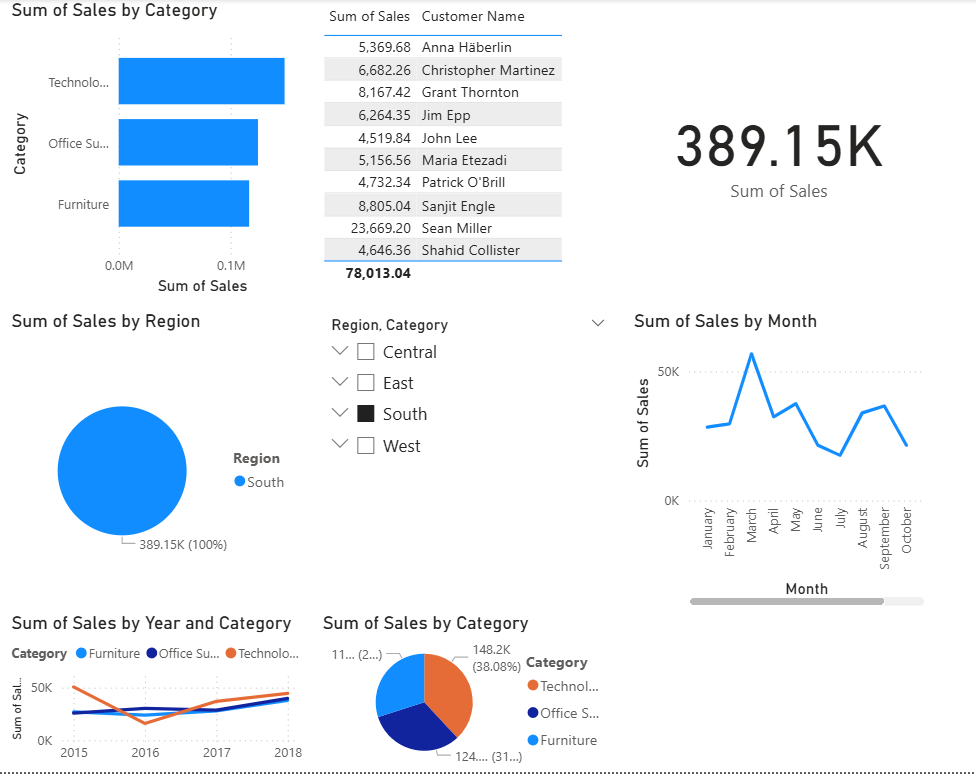

The page's visual inventory and layout, read from the dashboard file:
{"tool":"powerbi","page":{"name":"Page 1","canvas":[1280,720],"ordinal":0},"visuals":[{"type":"clusteredBarChart","fields":{"Y":["Sum(train_cleaned.Sales)"],"Category":["train_cleaned.Category"]},"box":[10,0,280,280],"z":0},{"type":"pieChart","fields":{"Y":["Sum(train_cleaned.Sales)"],"Category":["train_cleaned.Region"]},"box":[10,290,280,280],"z":1000},{"type":"lineChart","fields":{"Category":["train_cleaned.Order Date.Variation.Date Hierarchy.Year","train_cleaned.Order Date.Variation.Date Hierarchy.Month"],"Y":["Sum(train_cleaned.Sales)"],"Series":["train_cleaned.Category"]},"box":[10,570,280,150],"z":2000},{"type":"tableEx","fields":{"Values":["Sum(train_cleaned.Sales)","train_cleaned.Customer Name"]},"box":[300,0,280,280],"z":3000},{"type":"slicer","fields":{"Values":["train_cleaned.Region","train_cleaned.Category"]},"box":[300,290,280,280],"z":4000},{"type":"pieChart","fields":{"Category":["train_cleaned.Category"],"Y":["Sum(train_cleaned.Sales)"]},"box":[300,570,280,150],"z":5000},{"type":"card","fields":{"Values":["Sum(train_cleaned.Sales)"]},"box":[590,0,280,280],"z":6000},{"type":"lineChart","fields":{"Category":["train_cleaned.Order MonthYear.Variation.Date Hierarchy.Month"],"Y":["Sum(train_cleaned.Sales)"]},"box":[590,290,280,280],"z":6001}]}

Visuals, with their boxes on the page's 1280x720 design canvas (x1, y1, x2, y2). These are canvas units, not pixel positions in the 976x776 screenshot, which may show the page scaled, cropped or inside an application window:
clusteredBarChart - Sum(train_cleaned.Sales) x train_cleaned.Category: x1=10 y1=0 x2=290 y2=280
pieChart - Sum(train_cleaned.Sales) x train_cleaned.Region: x1=10 y1=290 x2=290 y2=570
lineChart - train_cleaned.Order Date.Variation.Date Hierarchy.Year x train_cleaned.Order Date.Variation.Date Hierarchy.Month: x1=10 y1=570 x2=290 y2=720
tableEx - Sum(train_cleaned.Sales) x train_cleaned.Customer Name: x1=300 y1=0 x2=580 y2=280
slicer - train_cleaned.Region x train_cleaned.Category: x1=300 y1=290 x2=580 y2=570
pieChart - train_cleaned.Category x Sum(train_cleaned.Sales): x1=300 y1=570 x2=580 y2=720
card - Sum(train_cleaned.Sales): x1=590 y1=0 x2=870 y2=280
lineChart - train_cleaned.Order MonthYear.Variation.Date Hierarchy.Month x Sum(train_cleaned.Sales): x1=590 y1=290 x2=870 y2=570
